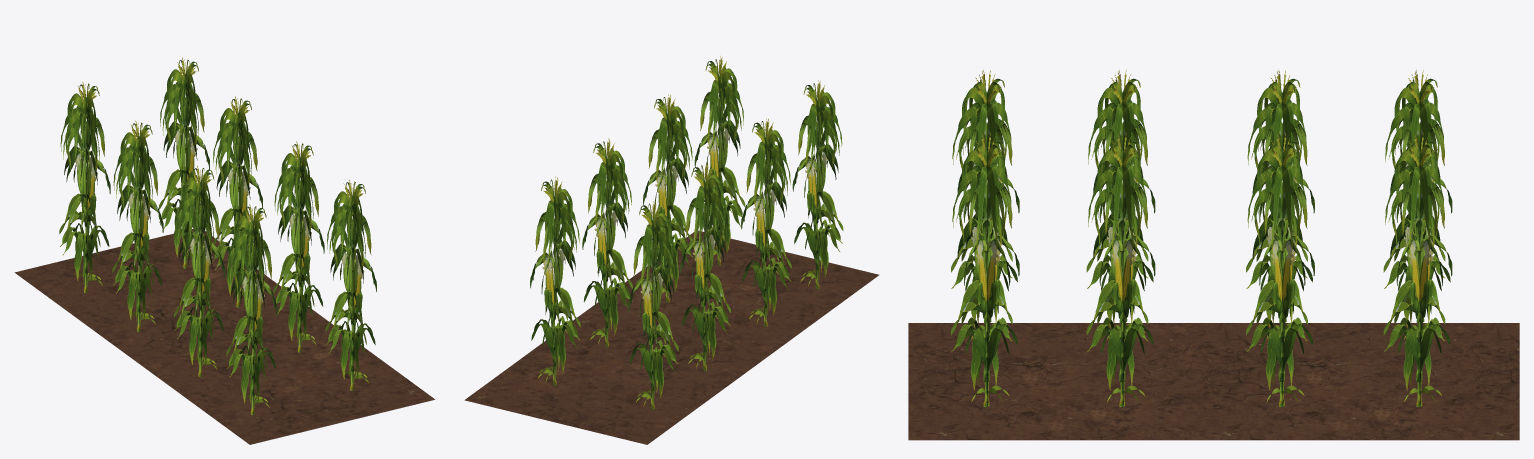
File: ARC0710045.fbx
3 renders of one model, left to right at view 1: azimuth 30°, elevation 25°; view 2: azimuth 150°, elevation 25°; view 3: azimuth 270°, elevation 25°, orthographic. The views are drawn at different scales.
Visible parts, largest first — view 1: smARC0710045; view 2: smARC0710045; view 3: smARC0710045.
Boxes of the visible parts, bbox=[...] form: smARC0710045: bbox=[14, 57, 434, 444]; smARC0710045: bbox=[464, 56, 879, 444]; smARC0710045: bbox=[908, 69, 1519, 440].
Size of the model in its own units: 82.37 by 105 by 181.
1 material, 1 textured.
